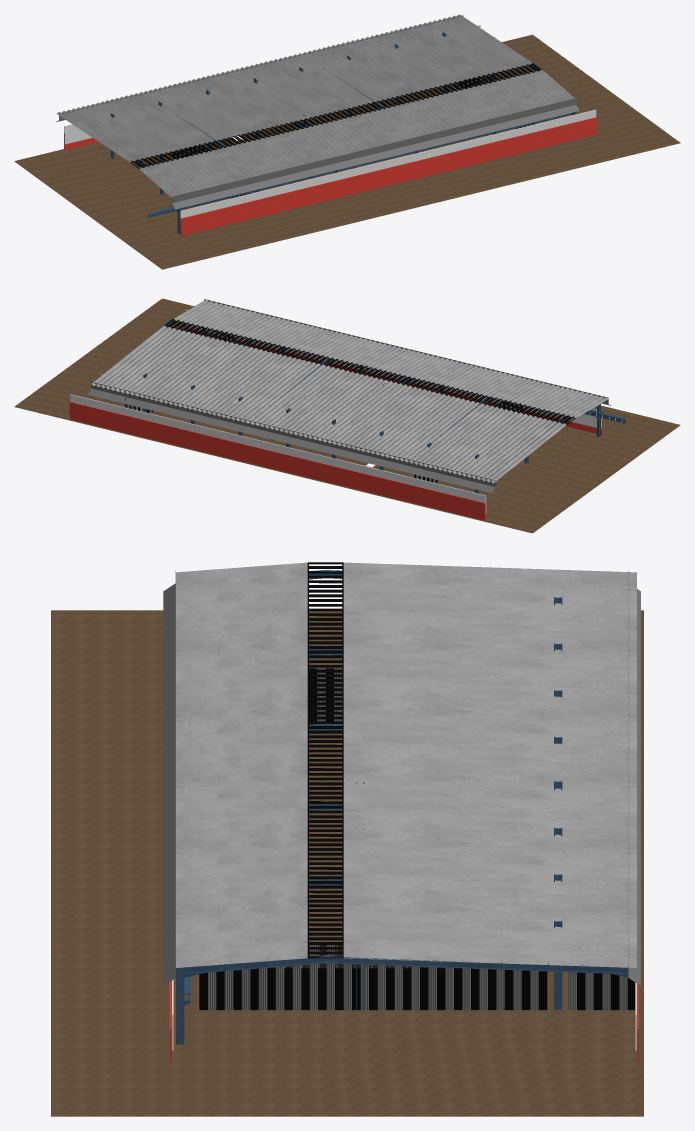
The model's file is Warehouse.fbx.
3 renders of one model, top to bottom at view 1: azimuth 30°, elevation 25°; view 2: azimuth 150°, elevation 25°; view 3: azimuth 270°, elevation 25°, orthographic. The views are drawn at different scales.
Visible parts, largest first — view 1: Plane.012, Warehouse, Plane.015, Plane.014, Plane.013, Plane.040, Cube.016, Plane.174, Cube.013; view 2: Plane.012, Warehouse, Plane.172, Plane.174, Plane.173, Plane.040, Plane.013, Plane.015, Plane.014, Cube.013; view 3: Plane.012, Warehouse, Plane.040, Plane.042, Plane.041, Plane.014, Cube.013, Plane.174, Cube.372.
Boxes of the visible parts, <box> form: Plane.012: <box>57,14,574,197</box>; Warehouse: <box>14,34,680,269</box>; Plane.015: <box>180,117,596,235</box>; Plane.014: <box>172,98,579,209</box>; Plane.013: <box>180,109,596,228</box>; Plane.040: <box>130,63,542,168</box>; Cube.016: <box>148,113,572,217</box>; Plane.174: <box>56,15,463,121</box>; Cube.013: <box>105,60,576,234</box>; Plane.012: <box>89,299,608,483</box>; Warehouse: <box>14,298,680,533</box>; Plane.172: <box>69,402,485,520</box>; Plane.174: <box>88,382,495,493</box>; Plane.173: <box>70,394,486,513</box>; Plane.040: <box>163,319,575,424</box>; Plane.013: <box>186,309,601,428</box>; Plane.015: <box>186,328,602,434</box>; Plane.014: <box>204,299,610,405</box>; Cube.013: <box>139,320,600,460</box>; Plane.012: <box>175,562,637,967</box>; Warehouse: <box>51,610,643,1116</box>; Plane.040: <box>307,562,343,958</box>; Plane.042: <box>199,945,635,1010</box>; Plane.041: <box>208,945,627,1010</box>; Plane.014: <box>163,570,175,985</box>; Cube.013: <box>176,570,628,1044</box>; Plane.174: <box>628,570,640,985</box>; Cube.372: <box>554,597,562,1010</box>.
Size of the model in its own units: 26207 by 2650 by 12974.
9 materials, 4 textured.
